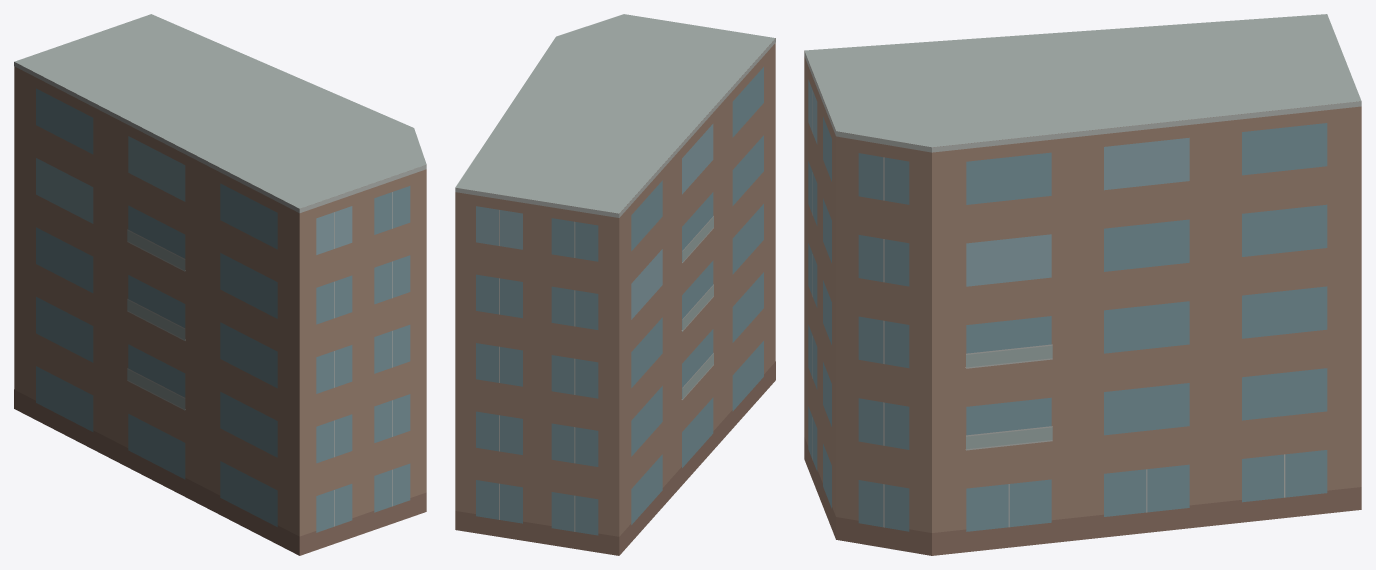
File: survey-upis-32646513.glb
3 views of the same model, side by side, from view 1: azimuth 30°, elevation 25°; view 2: azimuth 150°, elevation 25°; view 3: azimuth 270°, elevation 25° (orthographic). The views are drawn at different scales.
Parts seen in each view (by area): view 1: survey-upis-32646513.tmp; view 2: survey-upis-32646513.tmp; view 3: survey-upis-32646513.tmp.
Part boxes in pixels (x1,y1,x2,y2): survey-upis-32646513.tmp: [14, 14, 426, 555]; survey-upis-32646513.tmp: [455, 14, 775, 555]; survey-upis-32646513.tmp: [804, 14, 1361, 555].
Size of the model in its own units: 13.23 by 18.9 by 23.37.
